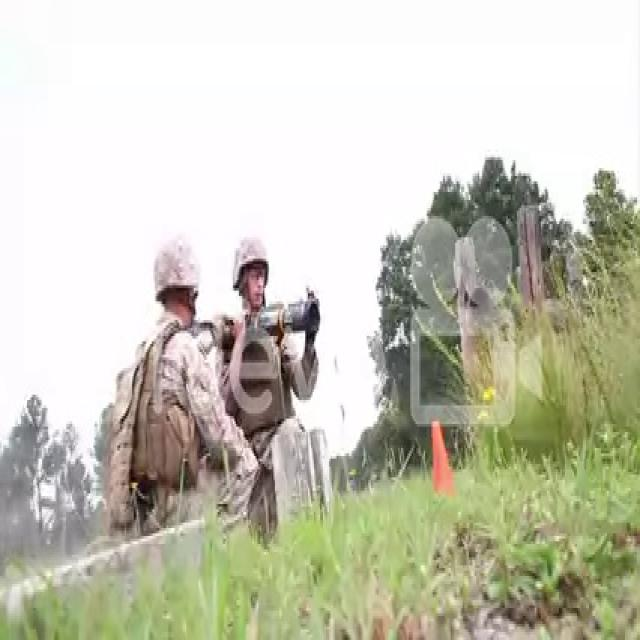bazooka: (211, 286, 328, 358)
